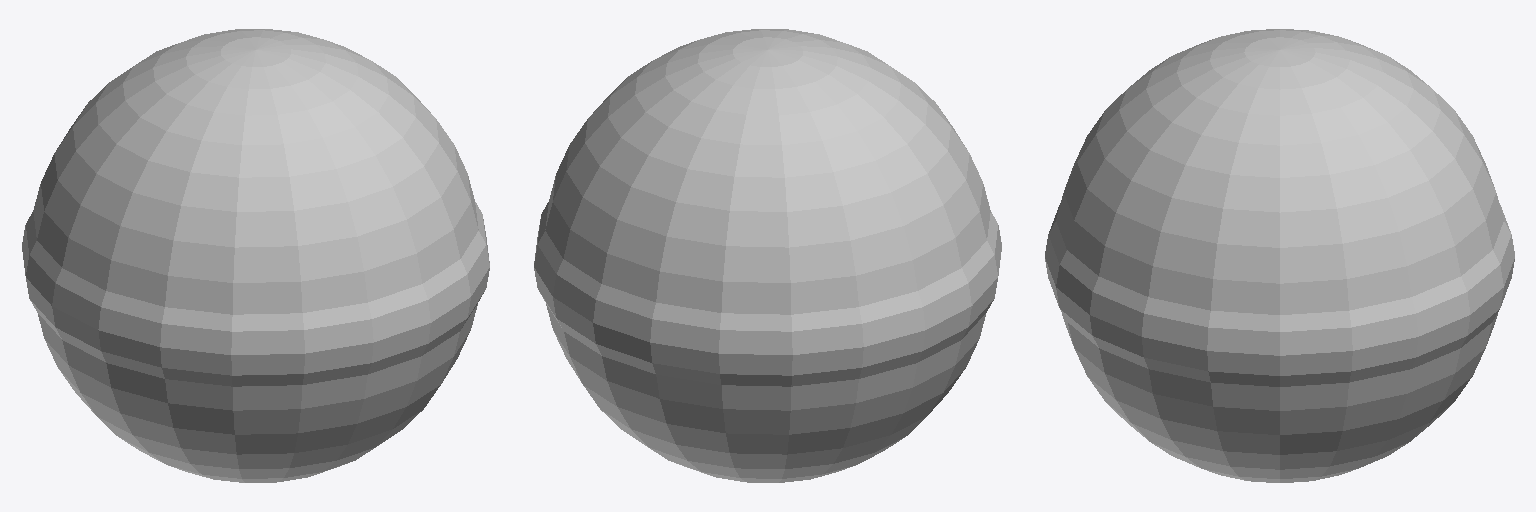
The model's file is canonball.obj.
3 views of the same model, side by side, from view 1: azimuth 30°, elevation 25°; view 2: azimuth 150°, elevation 25°; view 3: azimuth 270°, elevation 25° (orthographic).
Parts seen in each view (by area): view 1: pSphere1, pTorus1; view 2: pSphere1, pTorus1; view 3: pSphere1, pTorus1.
Boxes of the visible parts, x1,y1,x2,y2 form: pSphere1: [33, 29, 478, 482]; pTorus1: [22, 202, 489, 386]; pSphere1: [545, 29, 990, 482]; pTorus1: [534, 202, 1001, 386]; pSphere1: [1056, 29, 1503, 482]; pTorus1: [1045, 203, 1514, 386].
Bounding box in the file's own units: 2.07 × 2 × 2.07.